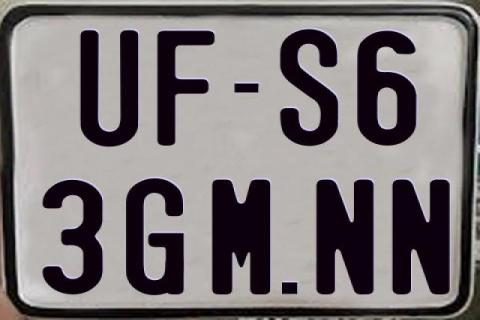0: (41, 179, 105, 296), (355, 30, 414, 146)
F: (156, 28, 220, 143)
G: (124, 176, 185, 298)
M: (210, 177, 269, 297)
N: (315, 178, 379, 298), (392, 178, 452, 298)
S: (279, 28, 342, 150)
U: (78, 29, 141, 151)
